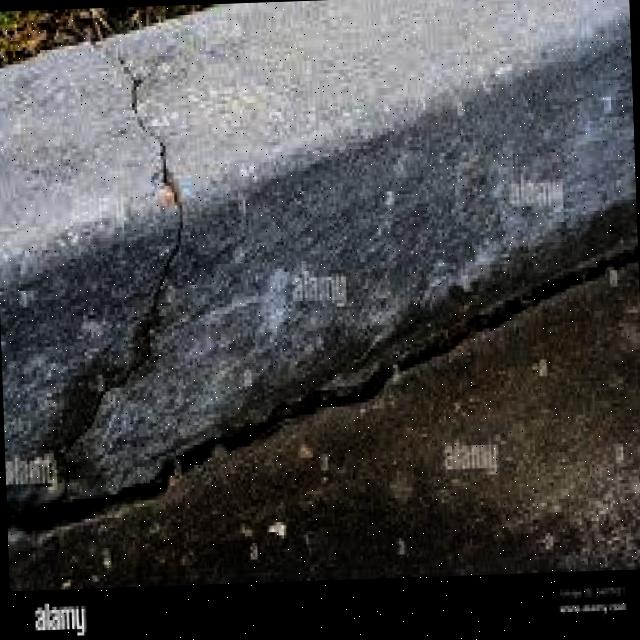curb: (193, 2, 640, 389), (1, 63, 347, 545)
